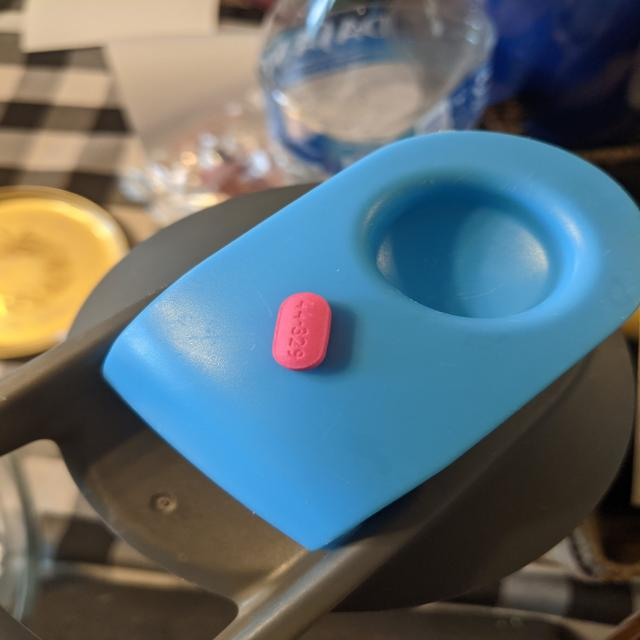non-organic waste: (272, 291, 332, 372)
